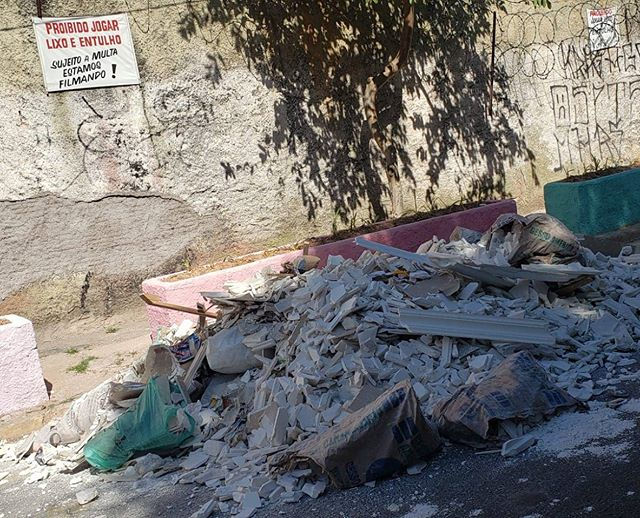graffiti: (543, 49, 640, 177)
sign: (22, 13, 140, 108)
trash: (1, 210, 640, 518)
wall: (1, 7, 634, 363)
